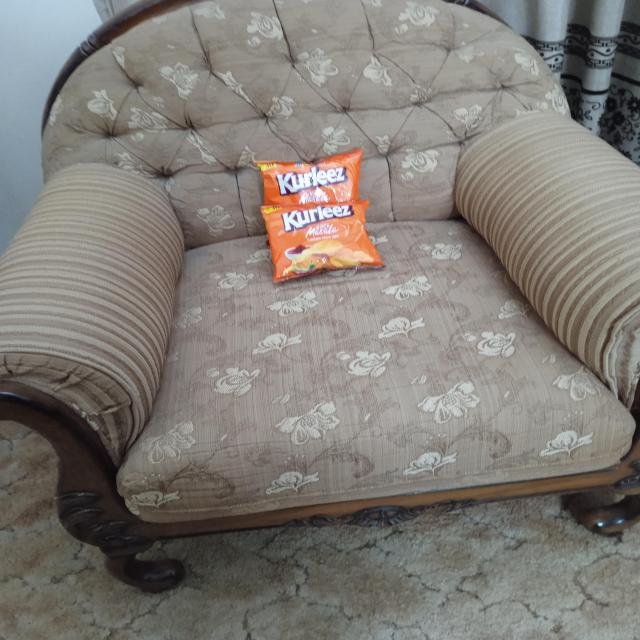Plastic: (262, 202, 374, 276), (260, 157, 364, 203)
